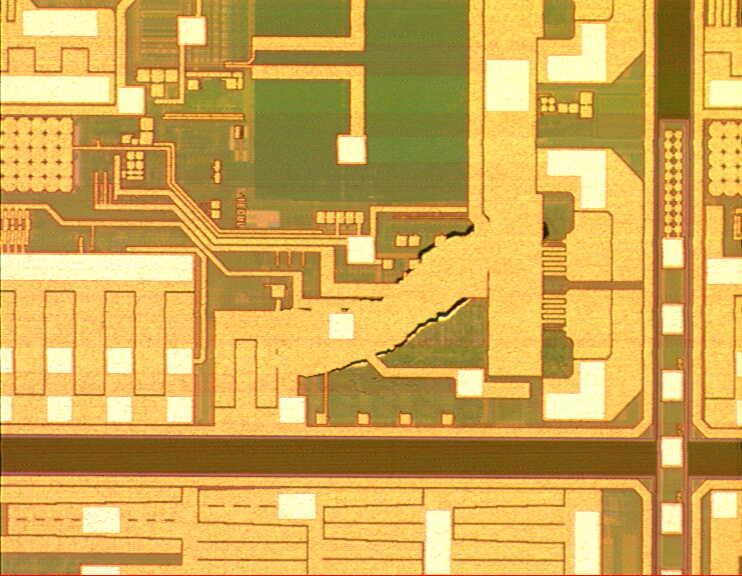BLOCK ETCH: (255, 208, 555, 383)
